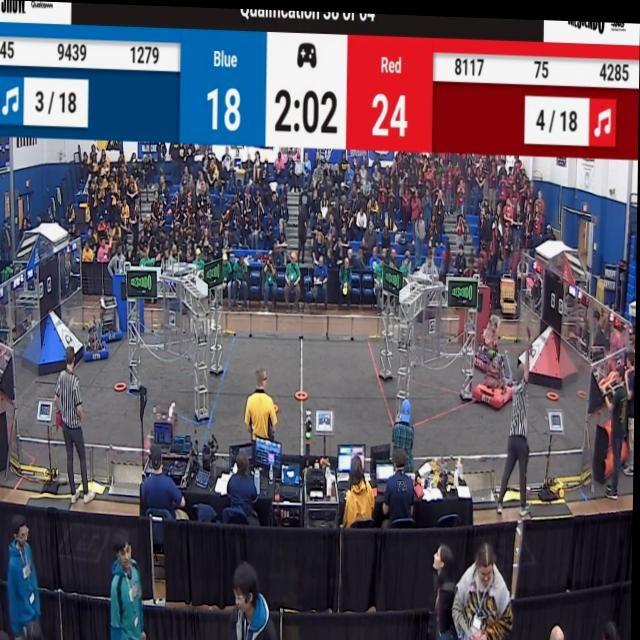Robot: (475, 336, 516, 410), (472, 308, 503, 371), (151, 394, 183, 451), (83, 310, 111, 364), (99, 292, 126, 344)
